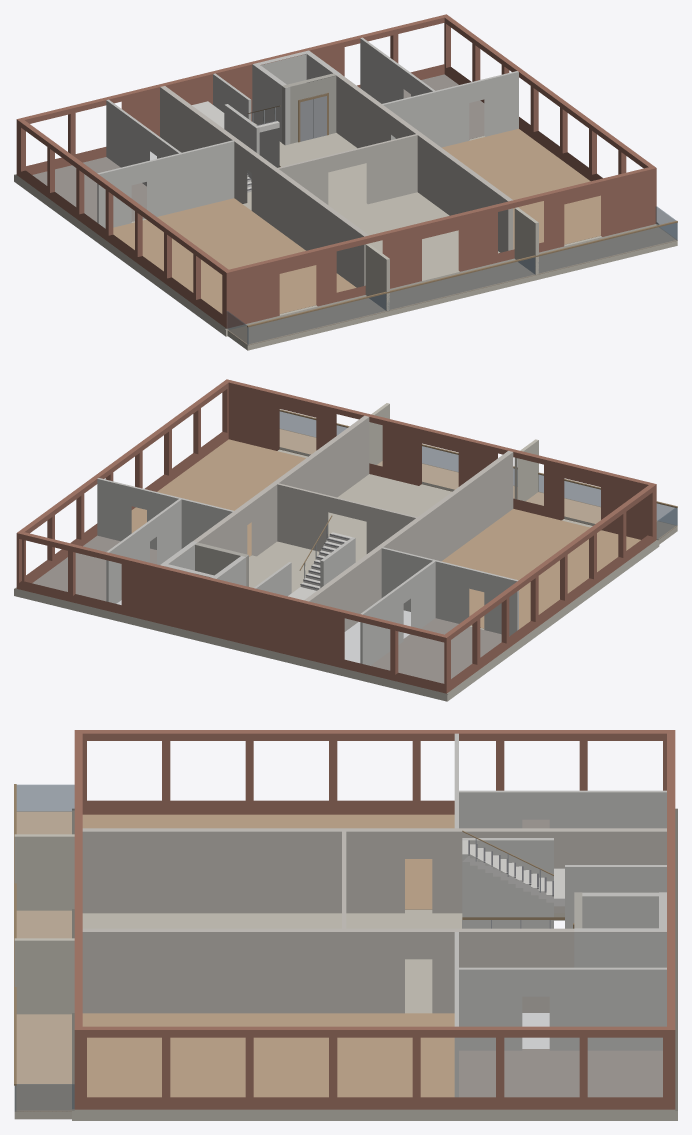
File: brick-floor.gaps-v1.lod0.glb
3 renders of one model, top to bottom at view 1: azimuth 30°, elevation 25°; view 2: azimuth 150°, elevation 25°; view 3: azimuth 270°, elevation 25°, orthographic. The views are drawn at different scales.
Visible parts, largest first — view 1: brick-floor; view 2: brick-floor; view 3: brick-floor.
Boxes of the visible parts, left/top/right/bottom form: brick-floor: left=14, top=14, right=677, bottom=350; brick-floor: left=14, top=379, right=677, bottom=701; brick-floor: left=14, top=730, right=677, bottom=1120.
Bounding box in the file's own units: 26.2 × 4.89 × 24.32.
